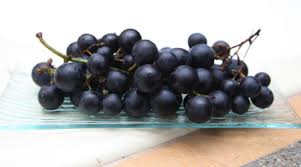Black grapes: (149, 25, 281, 126), (25, 30, 165, 116)
